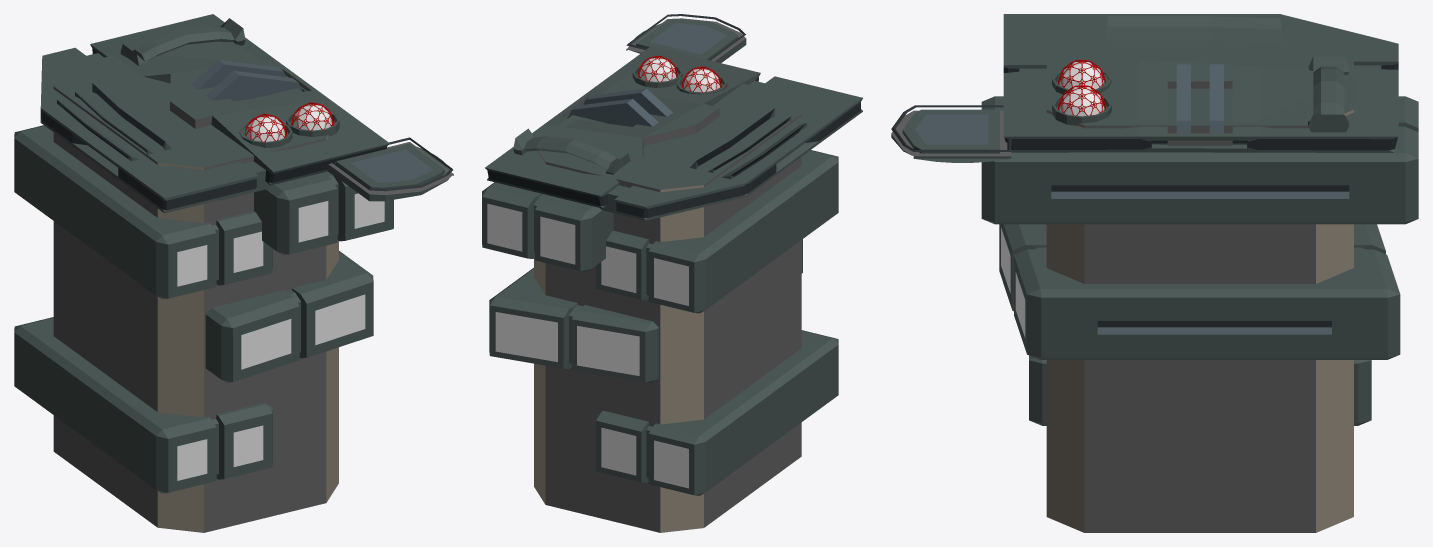
The model's file is building_67.fbx.
3 views of the same model, side by side, from view 1: azimuth 30°, elevation 25°; view 2: azimuth 150°, elevation 25°; view 3: azimuth 270°, elevation 25° (orthographic). The views are drawn at different scales.
Parts seen in each view (by area): view 1: building_67; view 2: building_67; view 3: building_67.
Boxes of the visible parts, x1,y1,x2,y2 form: building_67: [14, 14, 453, 532]; building_67: [482, 14, 862, 532]; building_67: [891, 14, 1418, 532].
Size of the model in its own units: 870 by 1272 by 1391.
